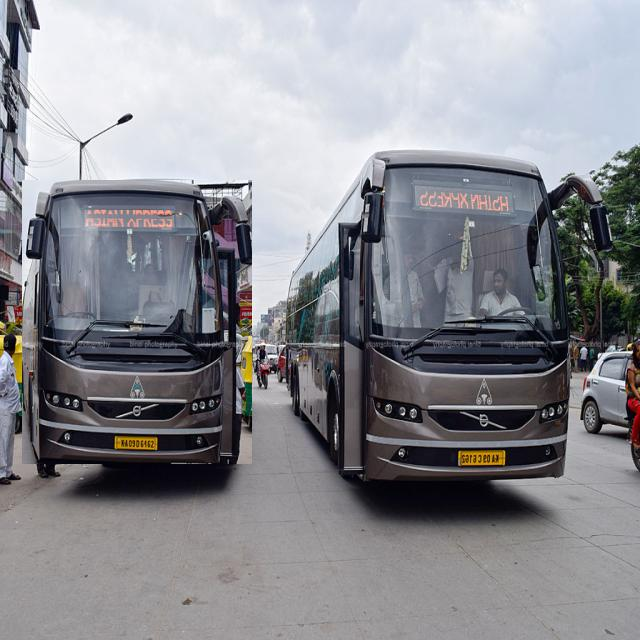bus: (288, 150, 610, 480), (22, 180, 251, 464)
